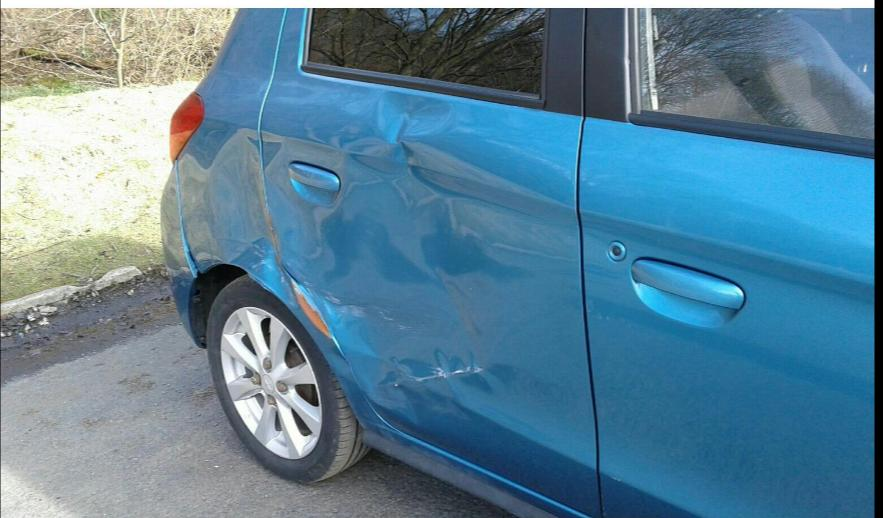Broken part: (178, 194, 202, 279)
Corrosion: (292, 288, 356, 371), (289, 278, 335, 342)
Dent: (405, 142, 584, 265), (368, 348, 560, 425), (340, 172, 445, 274), (278, 220, 369, 332), (201, 131, 266, 265), (257, 172, 324, 260), (376, 90, 454, 143), (345, 135, 415, 176), (321, 303, 367, 354), (191, 122, 223, 159), (234, 125, 285, 147), (357, 354, 384, 384)
Paint chip: (585, 301, 638, 329)
Scratch: (482, 133, 613, 187), (373, 305, 419, 340), (410, 362, 485, 383), (277, 270, 295, 303), (249, 252, 275, 273), (299, 277, 318, 301), (252, 244, 267, 255)
